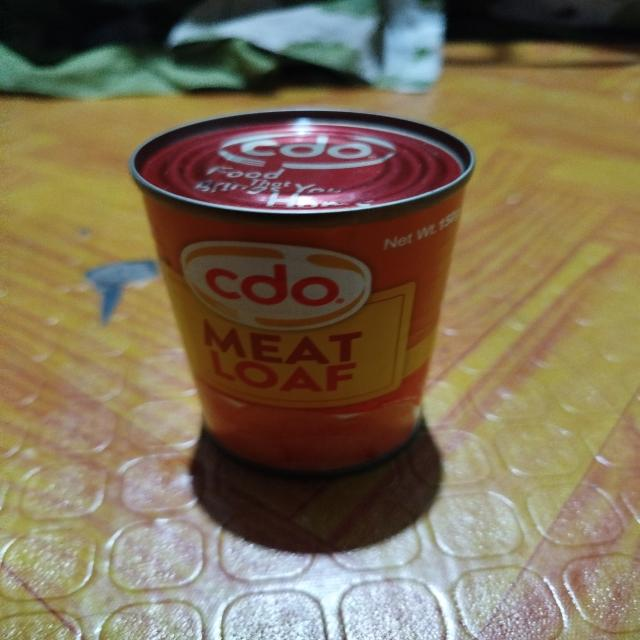metal: (117, 93, 496, 502)
